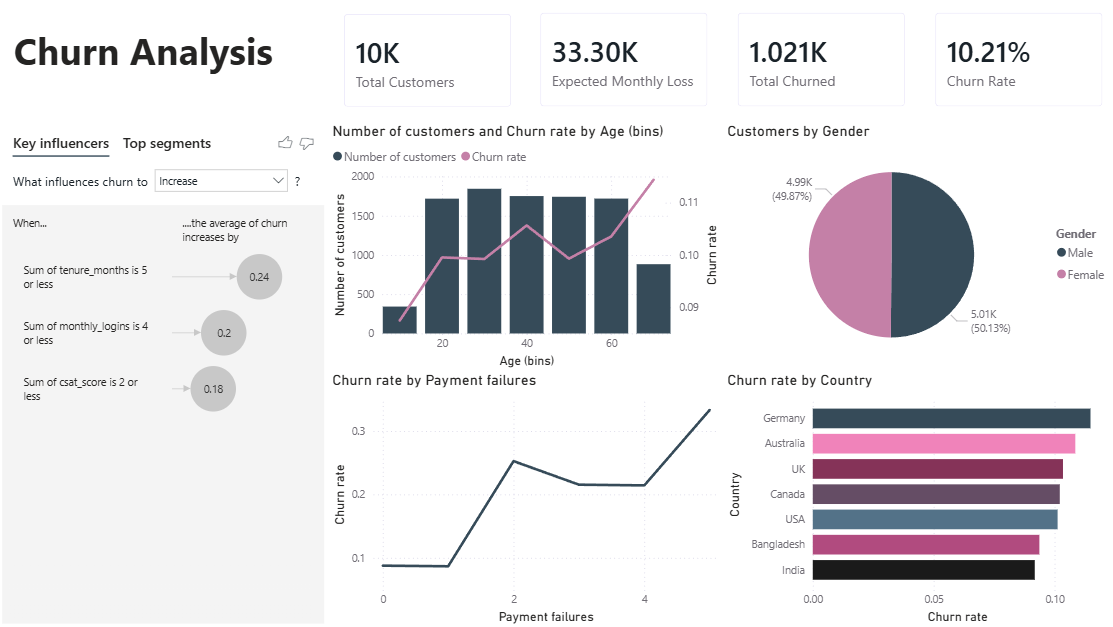

Layout of this report page (visuals, bound fields, positions):
{"tool":"powerbi","page":{"name":"Page 1","canvas":[1280,720],"ordinal":0},"visuals":[{"type":"keyDriversVisual","fields":{"Target":["ChurnScored.churn"],"ExplainBy":["Sum(ChurnScored.tenure_months)","Sum(ChurnScored.monthly_logins)","Sum(ChurnScored.last_login_days_ago)","Sum(ChurnScored.age)","Sum(ChurnScored.email_open_rate)","Sum(ChurnScored.avg_session_time)","Sum(ChurnScored.avg_resolution_time)","ChurnScored.contract_type","Sum(ChurnScored.nps_score)","ChurnScored.customer_segment","Sum(ChurnScored.csat_score)"]},"box":[0,141.2,377.5,578.8],"z":0},{"type":"cardVisual","fields":{"Data":["ChurnScored.otal Customers"]},"box":[377.9,1.4,225,140],"z":1000},{"type":"cardVisual","fields":{"Data":["ChurnScored.Churn Rate"]},"box":[1054.3,0,225.7,141.4],"z":2000},{"type":"cardVisual","fields":{"Data":["Sum(ChurnScored.expected_monthly_loss)"]},"box":[602.9,0,225.7,141.4],"z":3000},{"type":"cardVisual","fields":{"Data":["ChurnScored.Total Churned"]},"box":[828.6,0,225.7,141.4],"z":4000},{"type":"textbox","box":[12.2,25.6,353.3,115.6],"z":5000},{"type":"pieChart","fields":{"Y":["CountNonNull(ChurnScored.gender)"],"Category":["ChurnScored.gender"]},"box":[828.5,141.5,451.5,285.4],"z":6000},{"type":"clusteredBarChart","fields":{"Category":["ChurnScored.country"],"Y":["ChurnScored.Churn Rate"]},"box":[828.6,425.7,451.4,294.3],"z":7000},{"type":"lineClusteredColumnComboChart","fields":{"Category":["ChurnScored.age (bins)"],"Y":["ChurnScored.Total Customers"],"Y2":["ChurnScored.Churn Rate"]},"box":[377.1,141.4,451.4,285.7],"z":8000},{"type":"lineClusteredColumnComboChart","fields":{"Category":["ChurnScored.payment_failures"],"Y2":["ChurnScored.Churn Rate"]},"box":[377.1,425.7,451.4,294.3],"z":9000}]}

Visuals, with their boxes in screenshot pixels (x1, y1, x2, y2), scaled from the page's 1280x720 canvas onto the 1113x627 screenshot:
keyDriversVisual - ChurnScored.churn x Sum(ChurnScored.tenure_months): <bbox>0, 123, 328, 626</bbox>
cardVisual - ChurnScored.otal Customers: <bbox>329, 1, 524, 123</bbox>
cardVisual - ChurnScored.Churn Rate: <bbox>917, 0, 1112, 123</bbox>
cardVisual - Sum(ChurnScored.expected_monthly_loss): <bbox>524, 0, 720, 123</bbox>
cardVisual - ChurnScored.Total Churned: <bbox>720, 0, 917, 123</bbox>
textbox: <bbox>11, 22, 318, 123</bbox>
pieChart - CountNonNull(ChurnScored.gender) x ChurnScored.gender: <bbox>720, 123, 1112, 372</bbox>
clusteredBarChart - ChurnScored.country x ChurnScored.Churn Rate: <bbox>720, 371, 1112, 626</bbox>
lineClusteredColumnComboChart - ChurnScored.age (bins) x ChurnScored.Total Customers: <bbox>328, 123, 720, 372</bbox>
lineClusteredColumnComboChart - ChurnScored.payment_failures x ChurnScored.Churn Rate: <bbox>328, 371, 720, 626</bbox>
